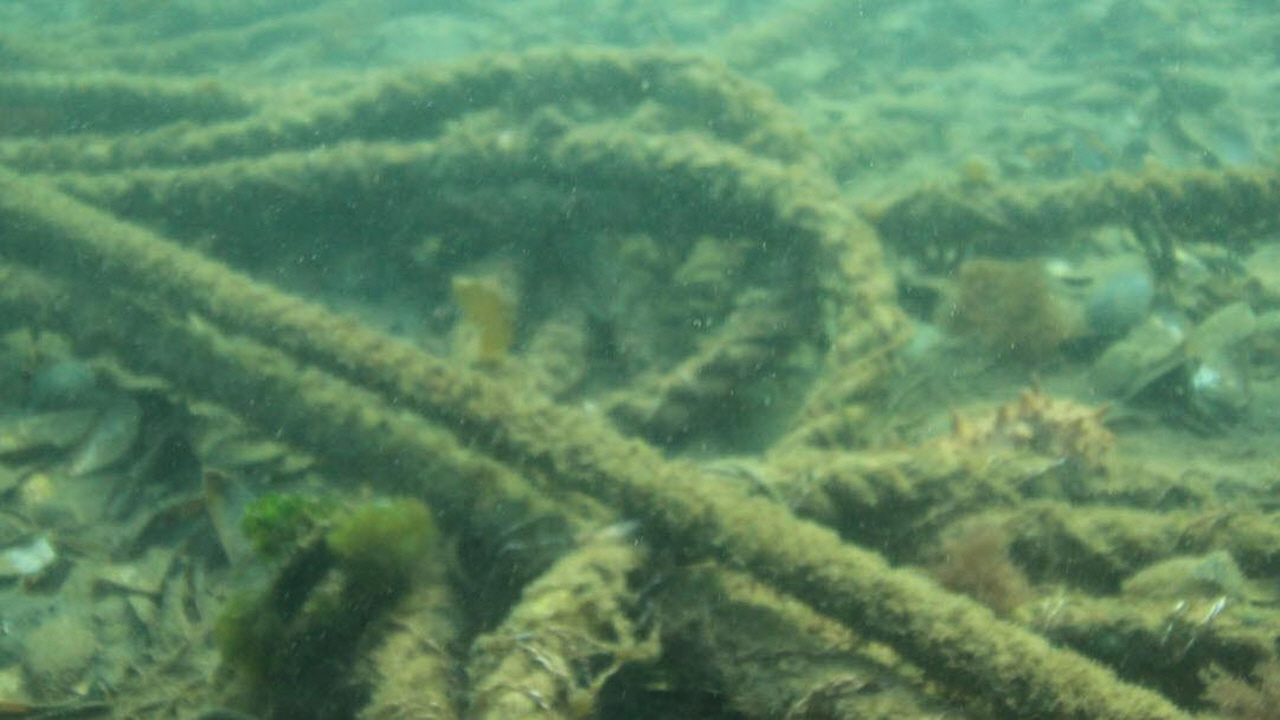bundle of ropes: (1, 37, 1280, 720)
